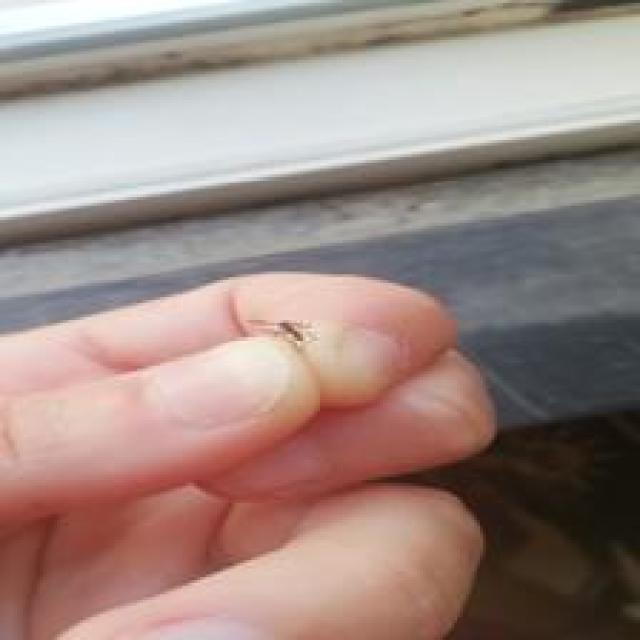Aedes albopictus: (244, 316, 319, 353)
